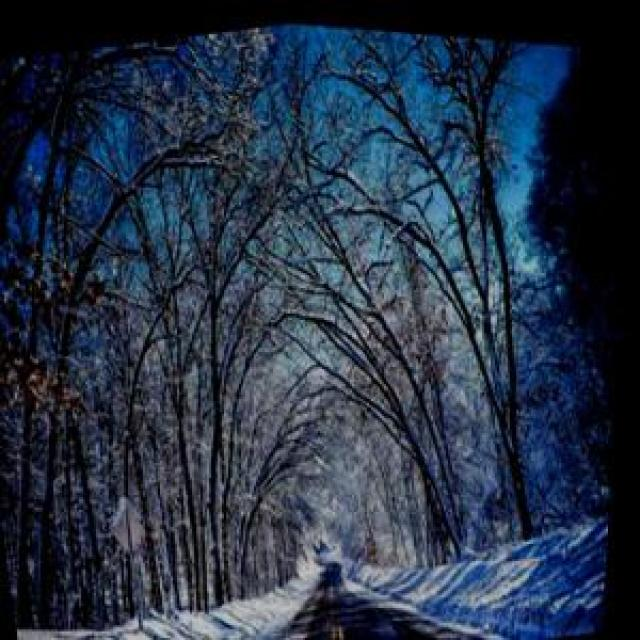clear-road: (281, 556, 511, 640)
